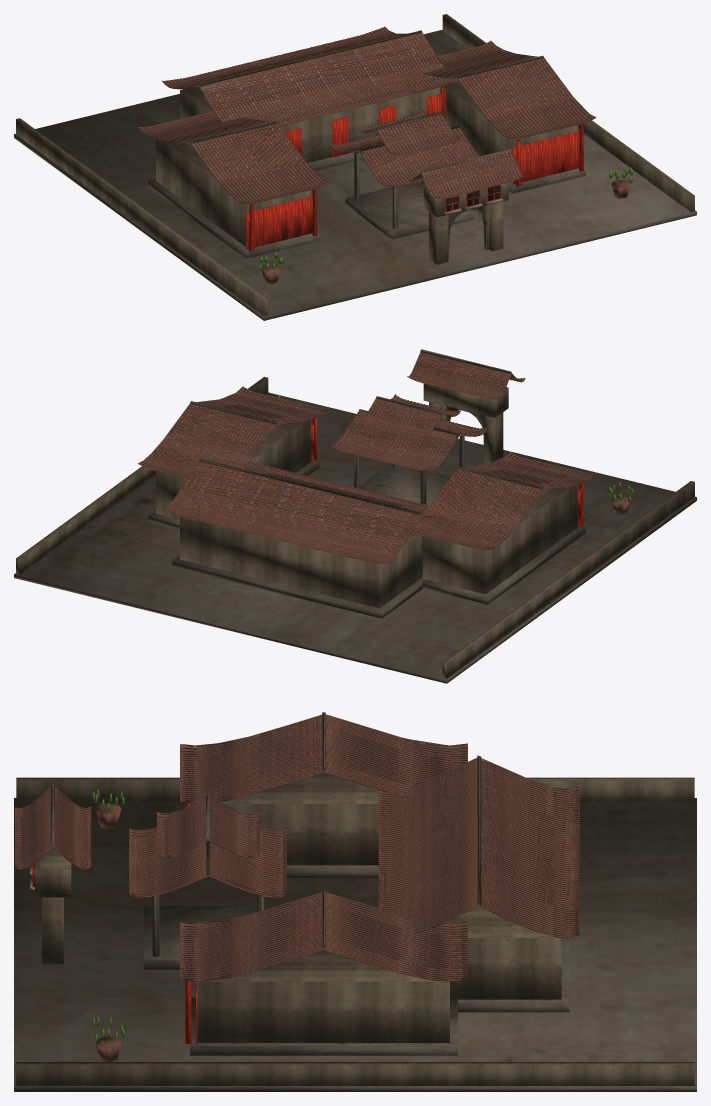
The model's file is den_ngoc_son_lod1.glb.
3 renders of one model, top to bottom at view 1: azimuth 30°, elevation 25°; view 2: azimuth 150°, elevation 25°; view 3: azimuth 270°, elevation 25°, orthographic. The views are drawn at different scales.
Parts seen in each view (by area): view 1: den_ngoc_son.001; view 2: den_ngoc_son.001; view 3: den_ngoc_son.001.
Boxes of the visible parts, x1,y1,x2,y2 form: den_ngoc_son.001: (14, 14, 696, 320); den_ngoc_son.001: (14, 349, 696, 683); den_ngoc_son.001: (14, 712, 696, 1091).
Size of the model in its own units: 25.98 by 5.64 by 25.98.
Materials: 2 (2 with a texture image).
